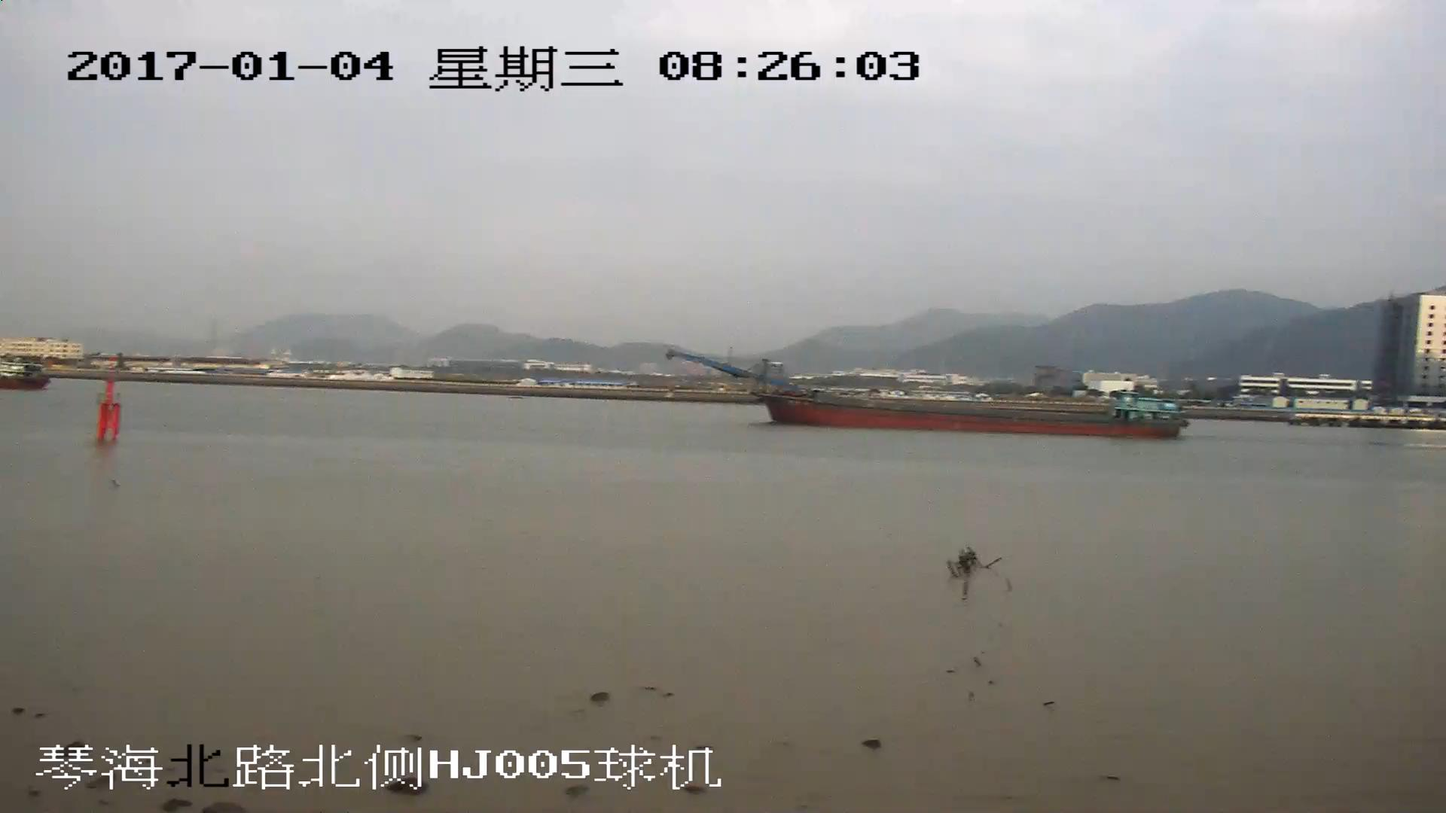bulk cargo carrier: (670, 352, 1181, 437)
